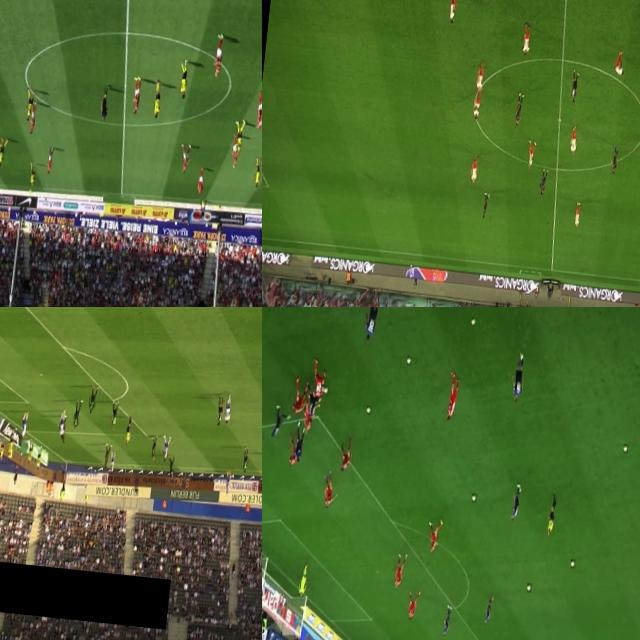ball: (569, 553, 577, 569), (468, 312, 476, 328), (404, 350, 412, 366), (469, 488, 476, 504), (320, 384, 328, 394), (365, 402, 370, 417), (622, 444, 628, 454), (526, 583, 532, 593), (226, 482, 229, 488)
player: (510, 350, 524, 403), (308, 360, 326, 400), (290, 374, 308, 414), (446, 372, 460, 422), (212, 34, 226, 80), (516, 19, 532, 59), (365, 307, 383, 340), (177, 58, 190, 100), (271, 404, 288, 436), (392, 551, 405, 592), (130, 78, 144, 114), (320, 472, 334, 507), (304, 386, 318, 421), (232, 119, 245, 154), (426, 521, 440, 553), (405, 588, 419, 620), (470, 84, 482, 120), (152, 78, 162, 120), (474, 60, 486, 95), (568, 74, 581, 106), (441, 602, 453, 636), (612, 52, 625, 83), (510, 482, 520, 522), (294, 420, 304, 460), (251, 158, 262, 194), (297, 562, 308, 597), (445, 0, 461, 24), (608, 143, 621, 172), (478, 191, 490, 222), (300, 405, 312, 436), (27, 101, 38, 134), (86, 384, 98, 414), (338, 442, 350, 472), (44, 145, 55, 177), (513, 92, 524, 124), (572, 196, 582, 231), (254, 89, 262, 132), (180, 142, 190, 174), (230, 138, 240, 170), (526, 136, 536, 168), (27, 162, 38, 191), (538, 167, 548, 197), (161, 432, 170, 462), (106, 451, 116, 478), (483, 594, 492, 624), (468, 155, 478, 181), (288, 434, 296, 466), (24, 90, 33, 118), (196, 169, 205, 197), (215, 400, 224, 428), (110, 402, 119, 430), (568, 128, 578, 153), (0, 139, 7, 173), (58, 418, 67, 444), (58, 412, 66, 438), (101, 445, 110, 468), (150, 433, 157, 462), (223, 399, 231, 424), (167, 454, 175, 478), (72, 406, 80, 429), (224, 471, 232, 494), (20, 411, 27, 437)
